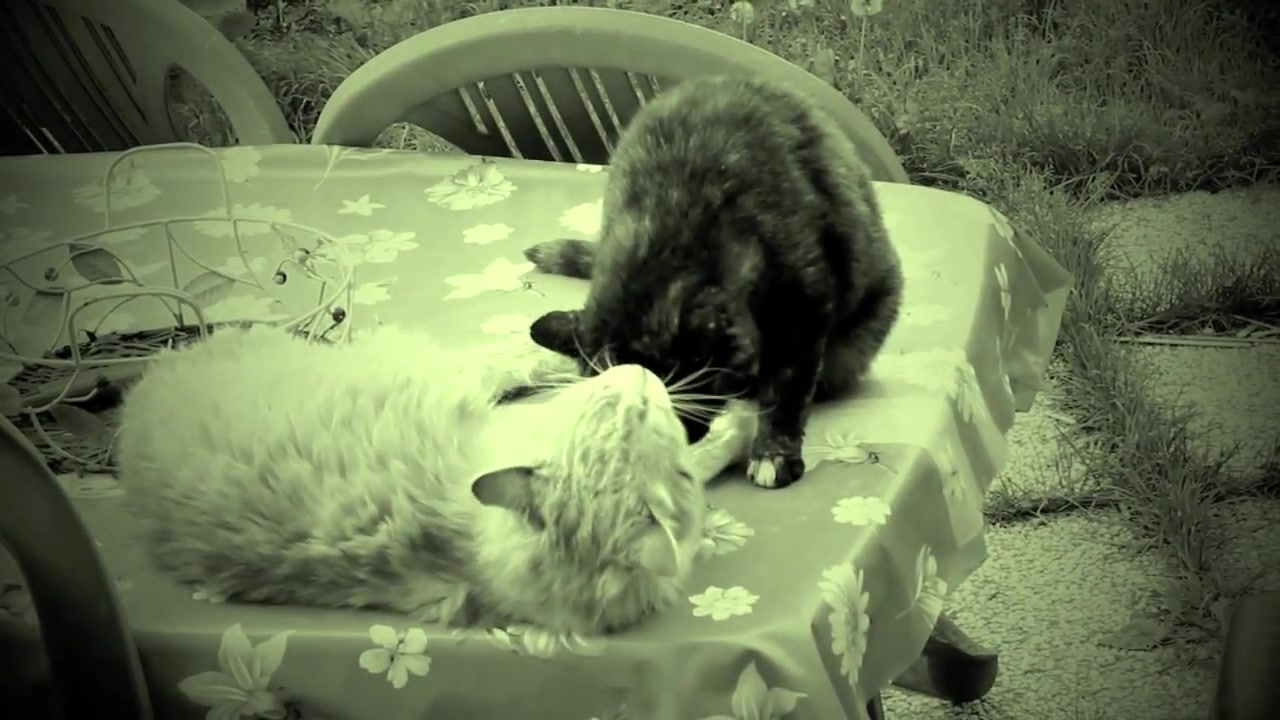cat: (118, 328, 762, 635)
